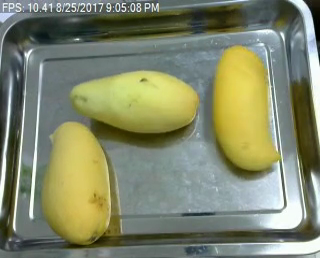Mango: (209, 42, 284, 177), (38, 120, 112, 243), (72, 67, 202, 135)
